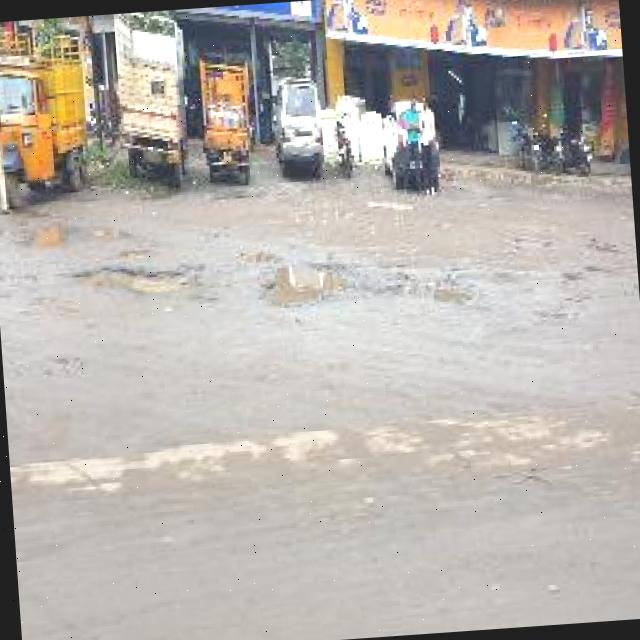stagnation: (254, 245, 358, 311), (98, 252, 196, 304)
